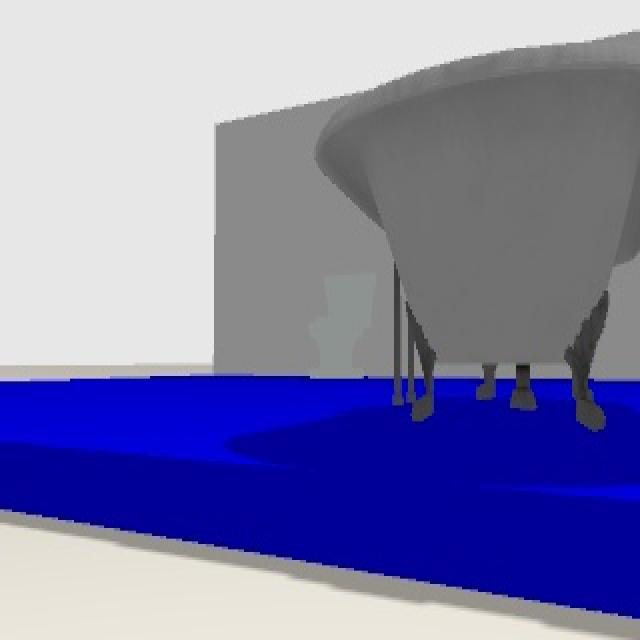bathtub: (314, 48, 638, 429)
